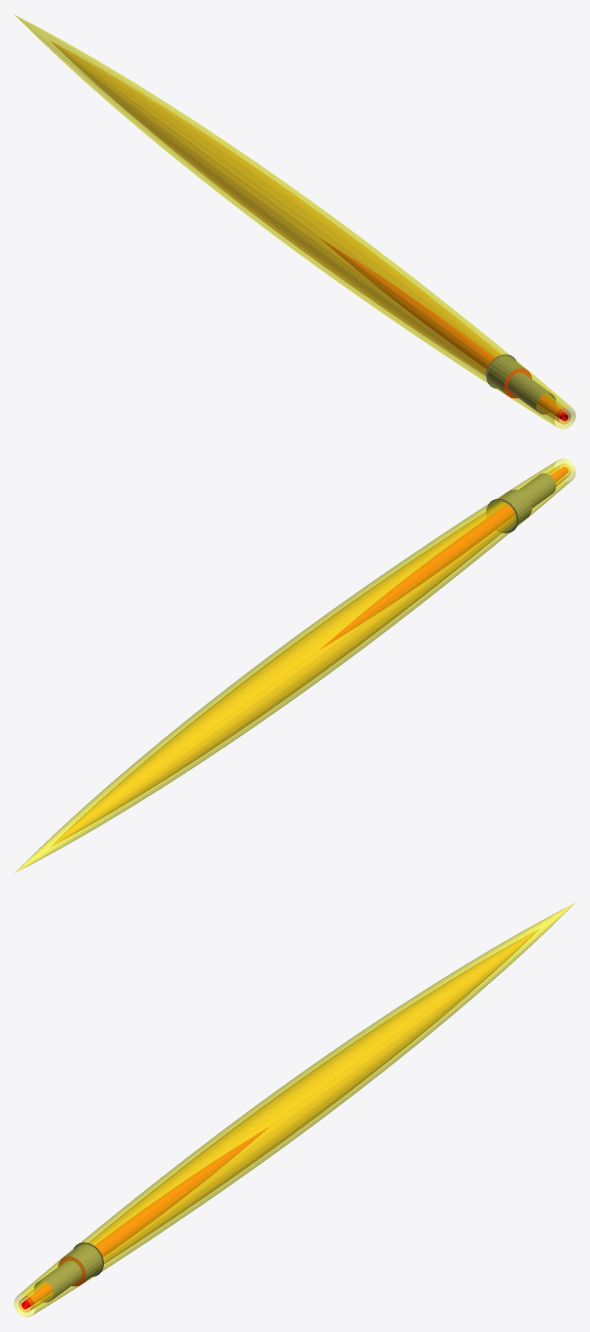
Rendered from Thruster1_interior_assembly.obj.
3 renders of one model, top to bottom at view 1: azimuth 30°, elevation 25°; view 2: azimuth 150°, elevation 25°; view 3: azimuth 330°, elevation 25°, orthographic.
Visible parts, largest first — view 1: Thruster1_interior_assembly-SKP--Yellow2, Thruster1_interior_assembly-SKP--Orange, Thruster1_interior_assembly-SKP--Red, Thruster1_interior_assembly-SKP--DimGray; view 2: Thruster1_interior_assembly-SKP--Yellow2, Thruster1_interior_assembly-SKP--Orange, Thruster1_interior_assembly-SKP--Red, Thruster1_interior_assembly-SKP--DimGray; view 3: Thruster1_interior_assembly-SKP--Yellow2, Thruster1_interior_assembly-SKP--Orange, Thruster1_interior_assembly-SKP--Red, Thruster1_interior_assembly-SKP--DimGray.
Part boxes in pixels (left/top/right/bottom): Thruster1_interior_assembly-SKP--Yellow2: left=14, top=14, right=575, bottom=429; Thruster1_interior_assembly-SKP--Orange: left=50, top=41, right=571, bottom=424; Thruster1_interior_assembly-SKP--Red: left=322, top=240, right=568, bottom=421; Thruster1_interior_assembly-SKP--DimGray: left=486, top=354, right=555, bottom=414; Thruster1_interior_assembly-SKP--Yellow2: left=14, top=458, right=575, bottom=873; Thruster1_interior_assembly-SKP--Orange: left=50, top=463, right=570, bottom=846; Thruster1_interior_assembly-SKP--Red: left=322, top=467, right=567, bottom=647; Thruster1_interior_assembly-SKP--DimGray: left=486, top=473, right=556, bottom=533; Thruster1_interior_assembly-SKP--Yellow2: left=14, top=902, right=575, bottom=1317; Thruster1_interior_assembly-SKP--Orange: left=18, top=929, right=539, bottom=1312; Thruster1_interior_assembly-SKP--Red: left=21, top=1128, right=267, bottom=1309; Thruster1_interior_assembly-SKP--DimGray: left=34, top=1242, right=103, bottom=1302.
Bounding box in the file's own units: 0.4179 × 0.4254 × 9.25.
